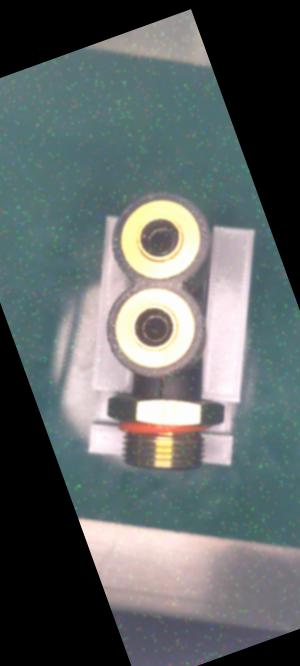craze: (150, 377, 172, 402)
